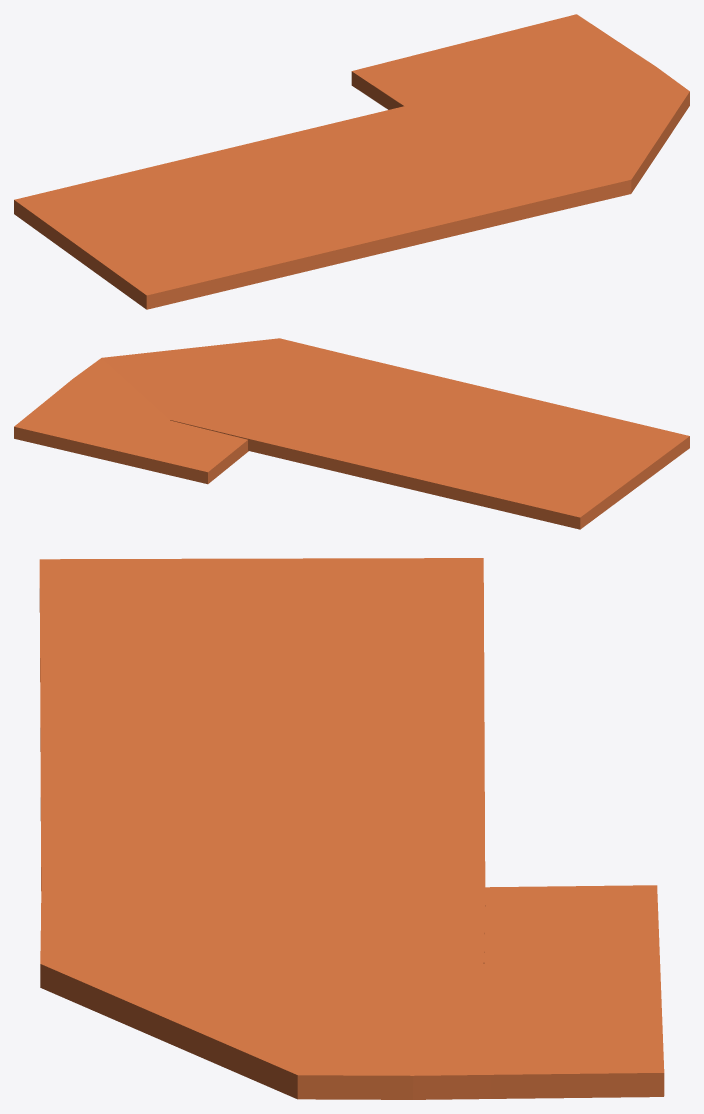
The model's file is curve_road.fbx.
The picture shows the model from 3 angles, top to bottom: view 1: azimuth 30°, elevation 25°; view 2: azimuth 150°, elevation 25°; view 3: azimuth 270°, elevation 25°; orthographic projection. The views are drawn at different scales.
Visible parts, largest first — view 1: Cube; view 2: Cube; view 3: Cube.
Part boxes in pixels (x1=…): Cube: x1=14, y1=14, x2=689, y2=309; Cube: x1=14, y1=338, x2=689, y2=529; Cube: x1=39, y1=558, x2=664, y2=1099.
Bounding box in the file's own units: 2733 × 75.71 × 1407.
